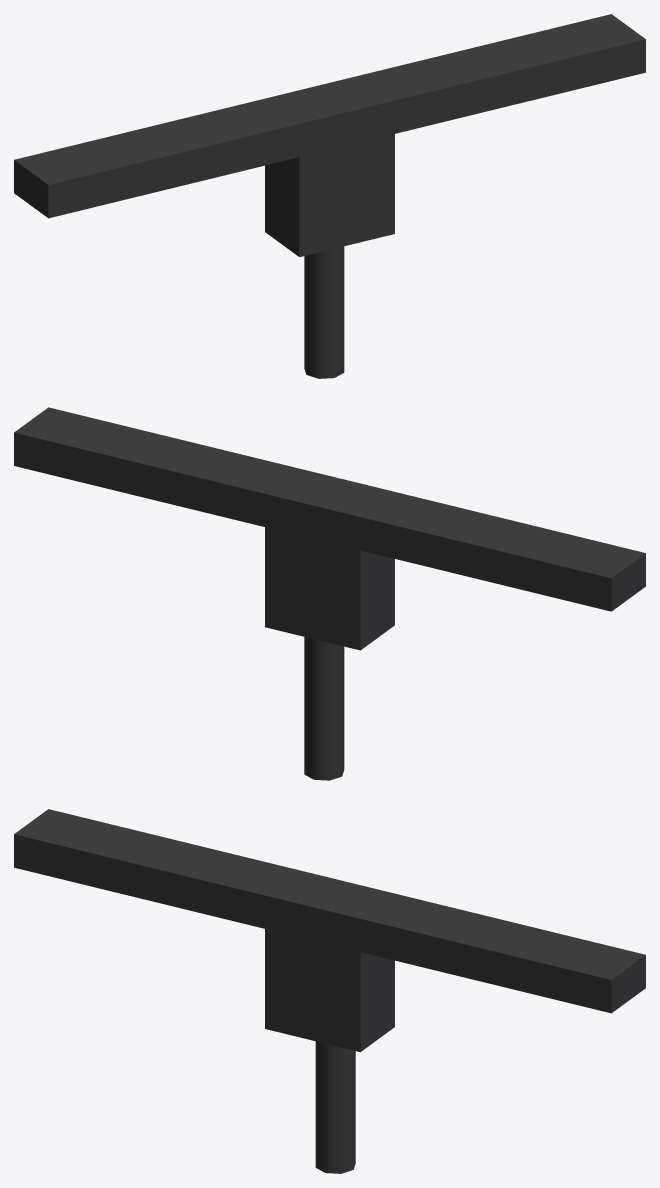
The model's file is gutter.glb.
3 views of the same model, one above another, from view 1: azimuth 30°, elevation 25°; view 2: azimuth 150°, elevation 25°; view 3: azimuth 330°, elevation 25° (orthographic).
Visible parts, largest first — view 1: gutter; view 2: gutter; view 3: gutter.
Part boxes in pixels (x1,y1,x2,y2): gutter: (14,14,645,378); gutter: (14,407,645,780); gutter: (14,809,645,1173).
Size of the model in its own units: 1.5 by 0.66 by 0.15.
Materials: 1 (1 with a texture image).
